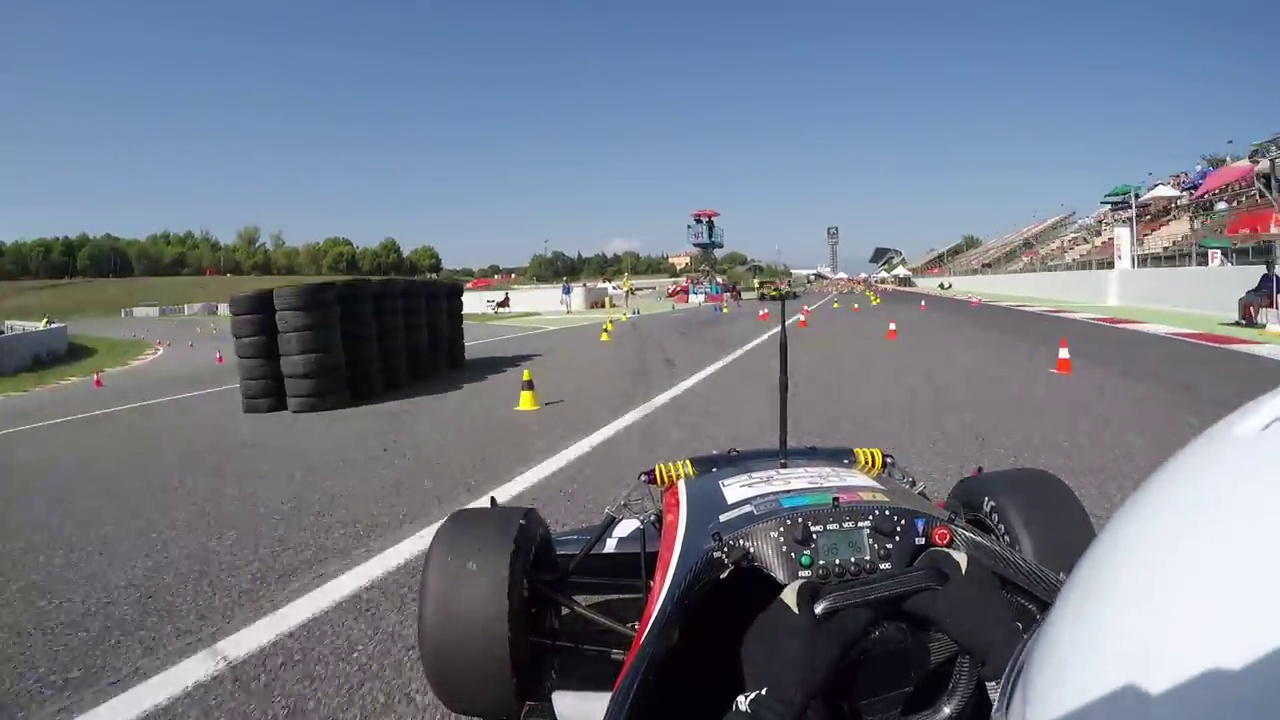Cone: (517, 367, 539, 411), (1054, 335, 1076, 375)
